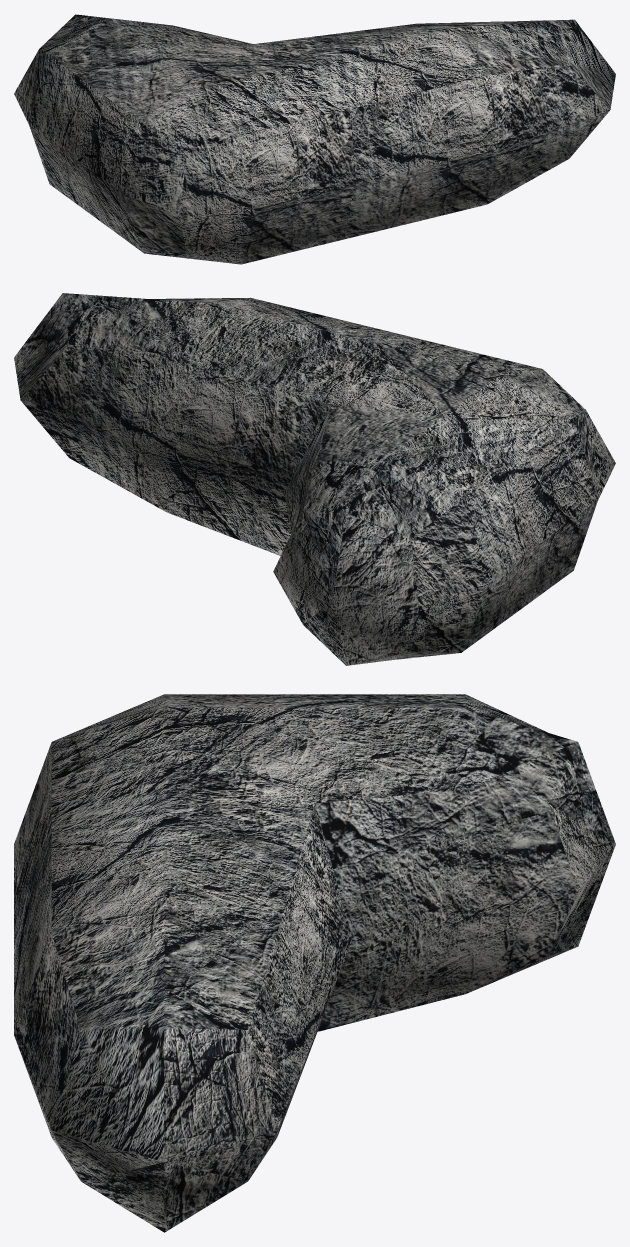
File: stone_a.obj
3 views of the same model, one above another, from view 1: azimuth 30°, elevation 25°; view 2: azimuth 150°, elevation 25°; view 3: azimuth 270°, elevation 25° (orthographic). The views are drawn at different scales.
Parts seen in each view (by area): view 1: stone2_L; view 2: stone2_L; view 3: stone2_L.
Part boxes in pixels (left/top/right/bottom): stone2_L: left=14, top=14, right=615, bottom=264; stone2_L: left=14, top=293, right=615, bottom=665; stone2_L: left=14, top=694, right=615, bottom=1232.
Size of the model in its own units: 15 by 5 by 10.
